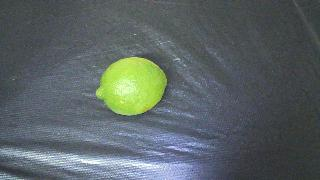LOCAL: (96, 57, 167, 116)
